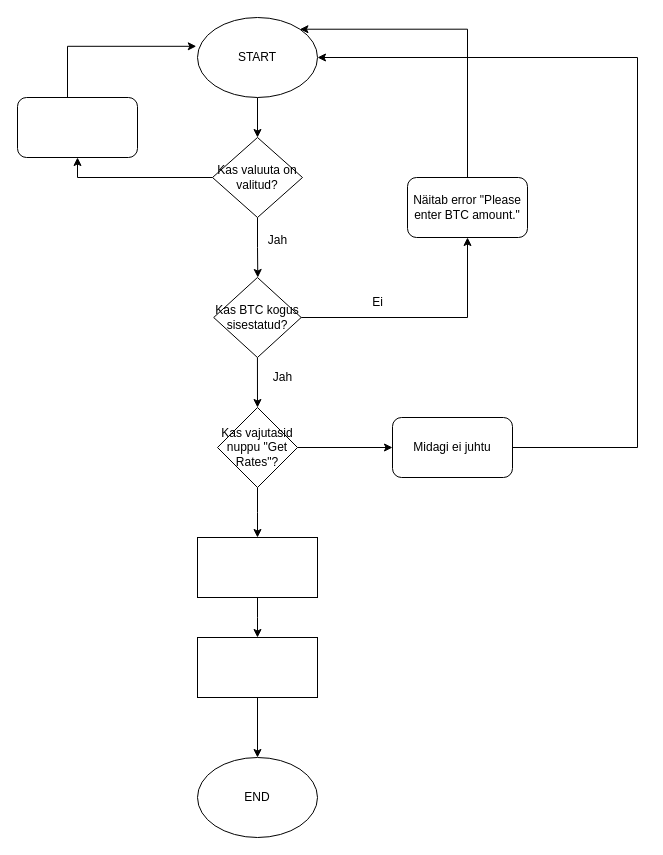
Image size: 663x855. Some labels were removed from this diagram. Here are the shapes that lost their labels. From the top down, the box of each, then its label:
(16, 96, 138, 158): Näitab error "Please select a currency."
(196, 536, 318, 598): Võtab BTC väärtuse ja valitud valuuta väärtuse ning korrutab oma vahel
(196, 636, 318, 698): Näitab vastust
